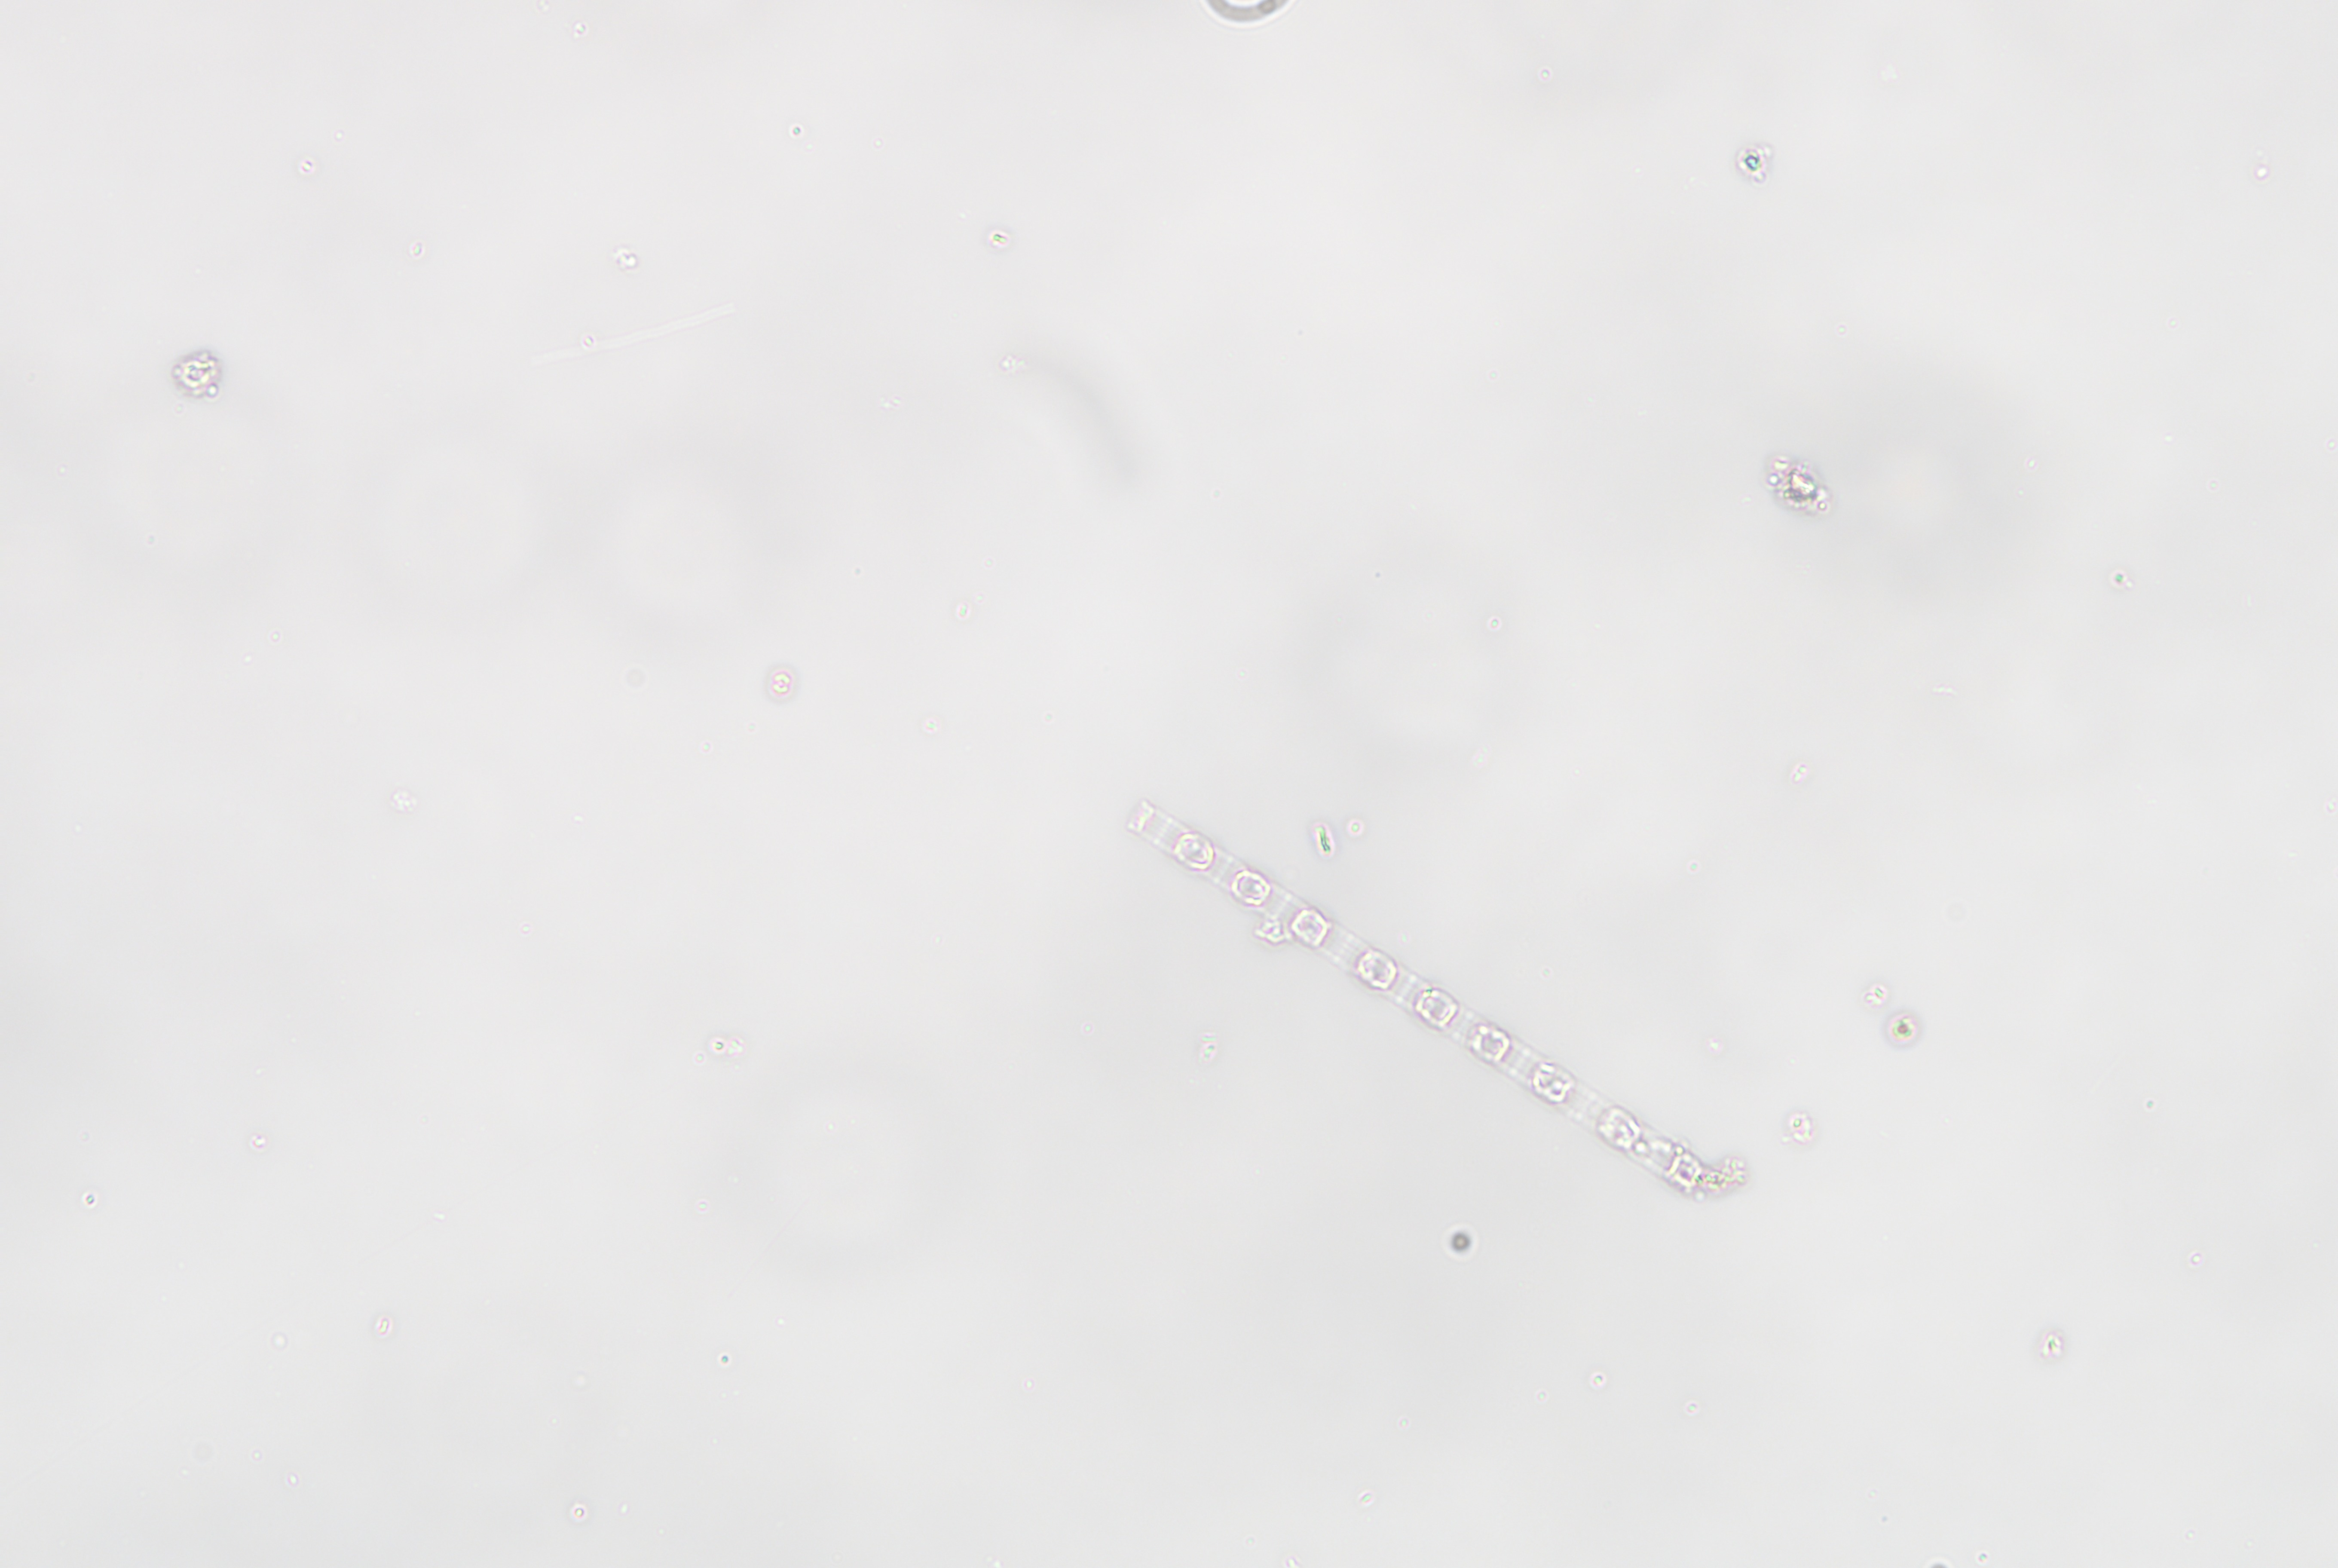skeletonema: (1109, 775, 1743, 1216)
